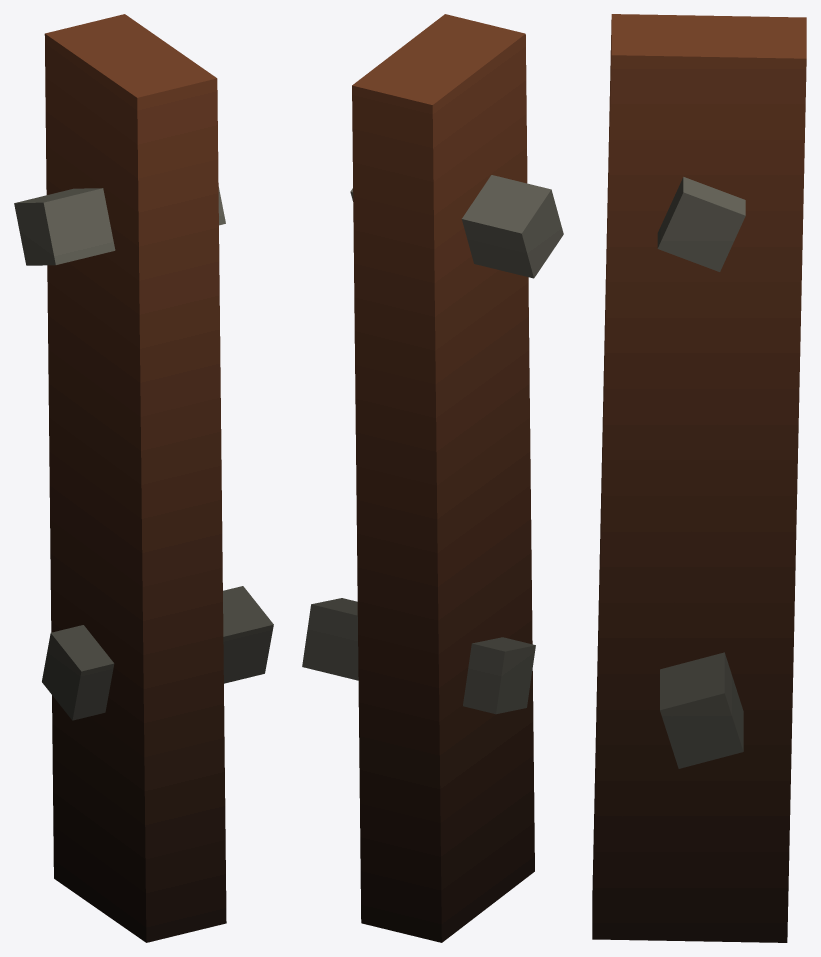
The model's file is FenceCapb2.glb.
3 renders of one model, left to right at view 1: azimuth 30°, elevation 25°; view 2: azimuth 150°, elevation 25°; view 3: azimuth 270°, elevation 25°, orthographic. The views are drawn at different scales.
Visible parts, largest first — view 1: FenceCapb2.col; view 2: FenceCapb2.col; view 3: FenceCapb2.col.
Part boxes in pixels (x1,y1,x2,y2): FenceCapb2.col: (14,14,273,942); FenceCapb2.col: (302,14,563,942); FenceCapb2.col: (592,14,806,942).
Size of the model in its own units: 0.3283 by 1.2 by 0.2637.
1 material, 1 textured.
